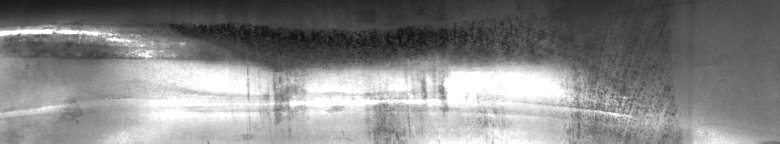ke: (4, 20, 509, 105)
